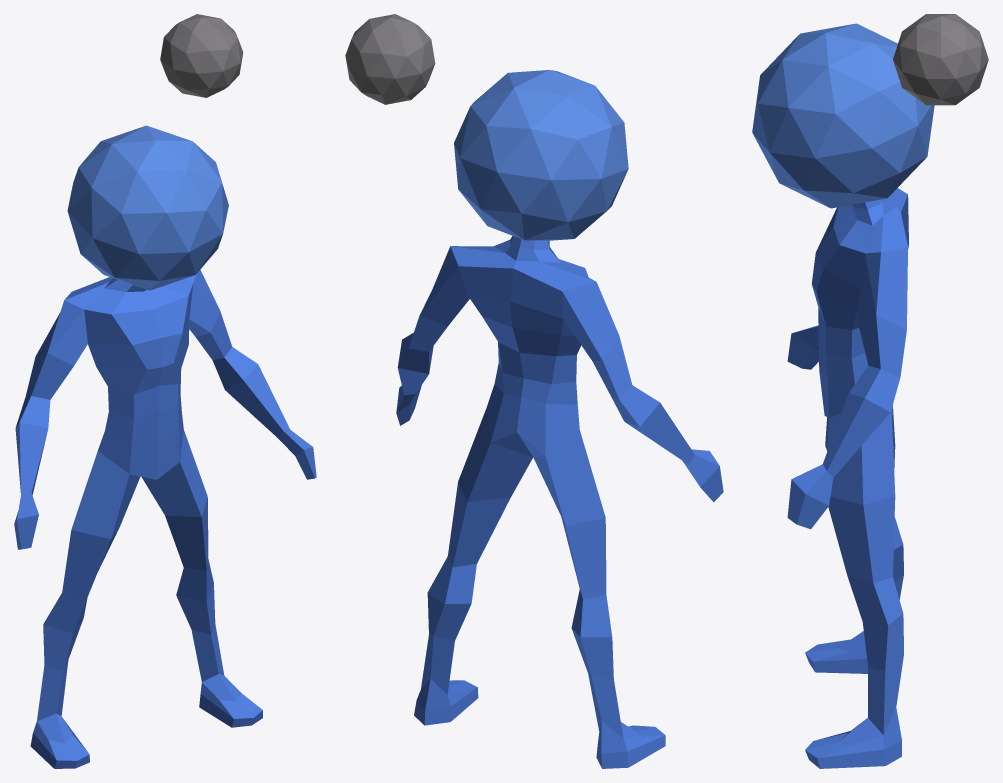
The model's file is zemlja-proto.gltf.
3 renders of one model, left to right at view 1: azimuth 30°, elevation 25°; view 2: azimuth 150°, elevation 25°; view 3: azimuth 270°, elevation 25°, orthographic. The views are drawn at different scales.
Visible parts, largest first — view 1: earth, Icosphere.002; view 2: earth, Icosphere.002; view 3: earth, Icosphere.002.
Boxes of the visible parts, x1=… form: earth: x1=14, y1=125, x2=316, y2=768; Icosphere.002: x1=160, y1=14, x2=243, y2=97; earth: x1=396, y1=70, x2=723, y2=768; Icosphere.002: x1=345, y1=14, x2=435, y2=104; earth: x1=752, y1=23, x2=934, y2=768; Icosphere.002: x1=893, y1=14, x2=988, y2=105.
Bounding box in the file's own units: 0.9657 × 2.07 × 0.592.
